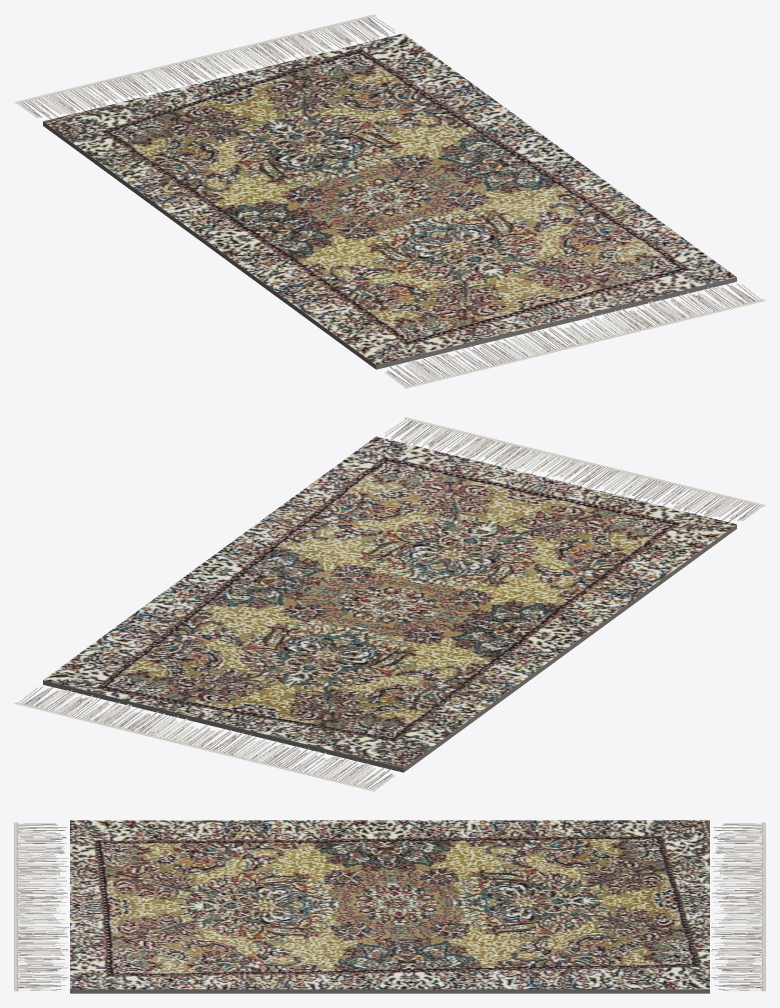
3 views of the same model, one above another, from view 1: azimuth 30°, elevation 25°; view 2: azimuth 150°, elevation 25°; view 3: azimuth 270°, elevation 25° (orthographic). The views are drawn at different scales.
Visible parts, largest first — view 1: rug, fringeB, fringeA, side; view 2: rug, fringeA, fringeB, side; view 3: rug, fringeA, fringeB, side.
Boxes of the visible parts, x1=… form: rug: x1=43, y1=33, x2=736, y2=364; fringeB: x1=385, y1=283, x2=765, y2=388; fringeA: x1=14, y1=14, x2=395, y2=119; side: x1=43, y1=121, x2=736, y2=369; rug: x1=43, y1=436, x2=736, y2=767; fringeA: x1=14, y1=686, x2=394, y2=791; fringeB: x1=384, y1=417, x2=765, y2=522; side: x1=43, y1=524, x2=736, y2=772; rug: x1=70, y1=820, x2=709, y2=989; fringeA: x1=711, y1=822, x2=765, y2=991; fringeB: x1=14, y1=822, x2=68, y2=991; side: x1=70, y1=989, x2=709, y2=993.
Size of what is drawn, in the model's own units: 0.5 by 0.00614 by 0.94.
Materials: 2 (2 with a texture image).
